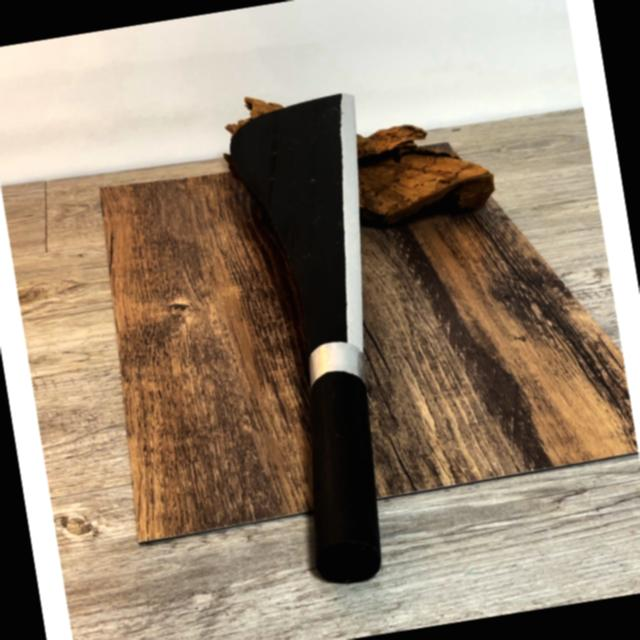eto: (215, 76, 385, 601)
